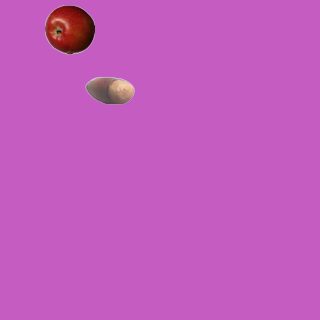Apple Braeburn: (44, 4, 94, 54)
Hazelnut: (84, 65, 134, 115)
